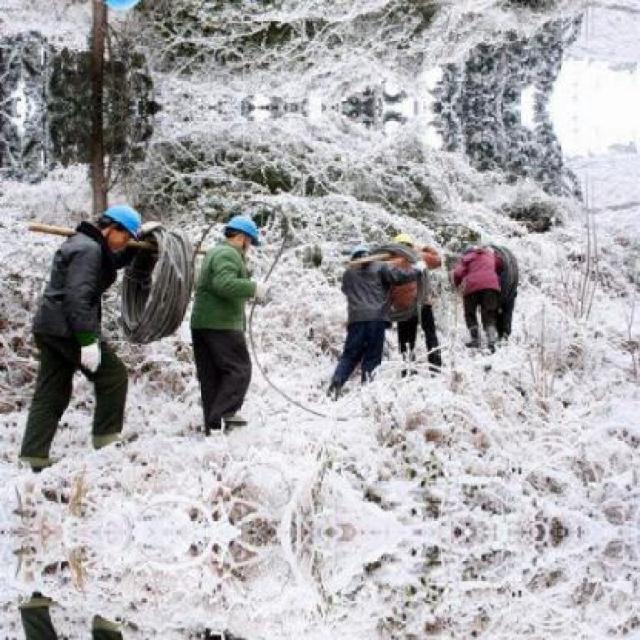helmet: (96, 200, 144, 249), (222, 211, 262, 254), (348, 243, 375, 268), (394, 229, 418, 257), (96, 0, 144, 14)
